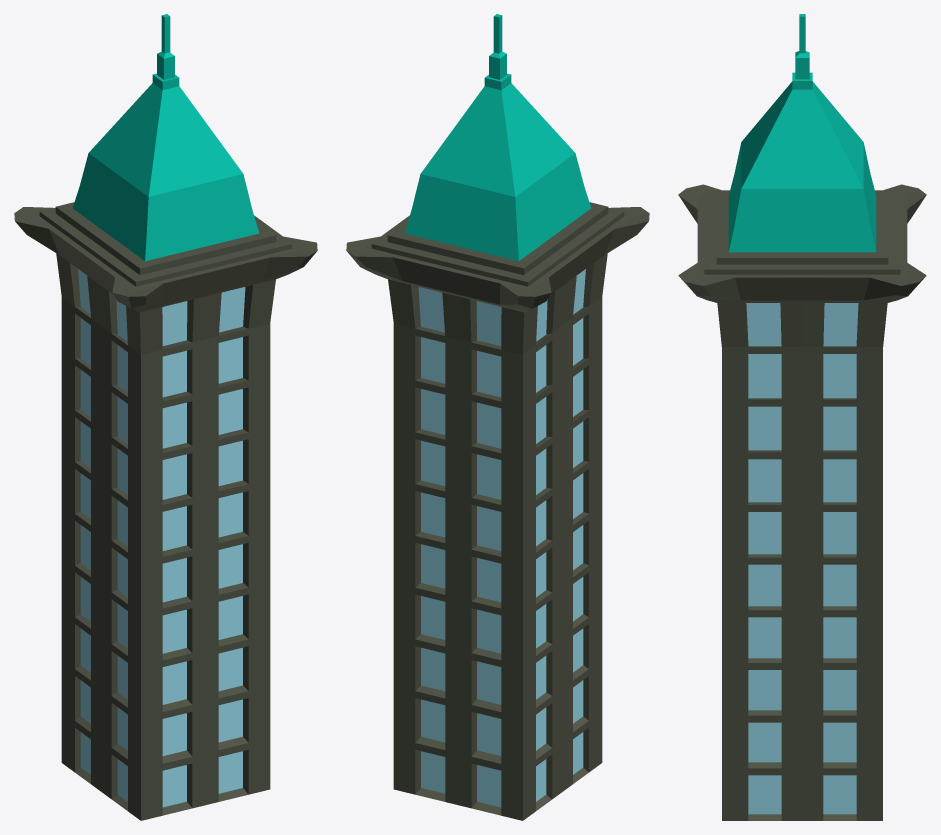
The model's file is Gargoyle_Building.fbx.
3 views of the same model, side by side, from view 1: azimuth 30°, elevation 25°; view 2: azimuth 150°, elevation 25°; view 3: azimuth 270°, elevation 25° (orthographic).
Parts seen in each view (by area): view 1: Cube.021; view 2: Cube.021; view 3: Cube.021.
Boxes of the visible parts, left/top/right/bottom form: Cube.021: left=14, top=14, right=317, bottom=820; Cube.021: left=346, top=14, right=649, bottom=820; Cube.021: left=678, top=14, right=926, bottom=820.
Bounding box in the file's own units: 835 × 2961 × 863.
